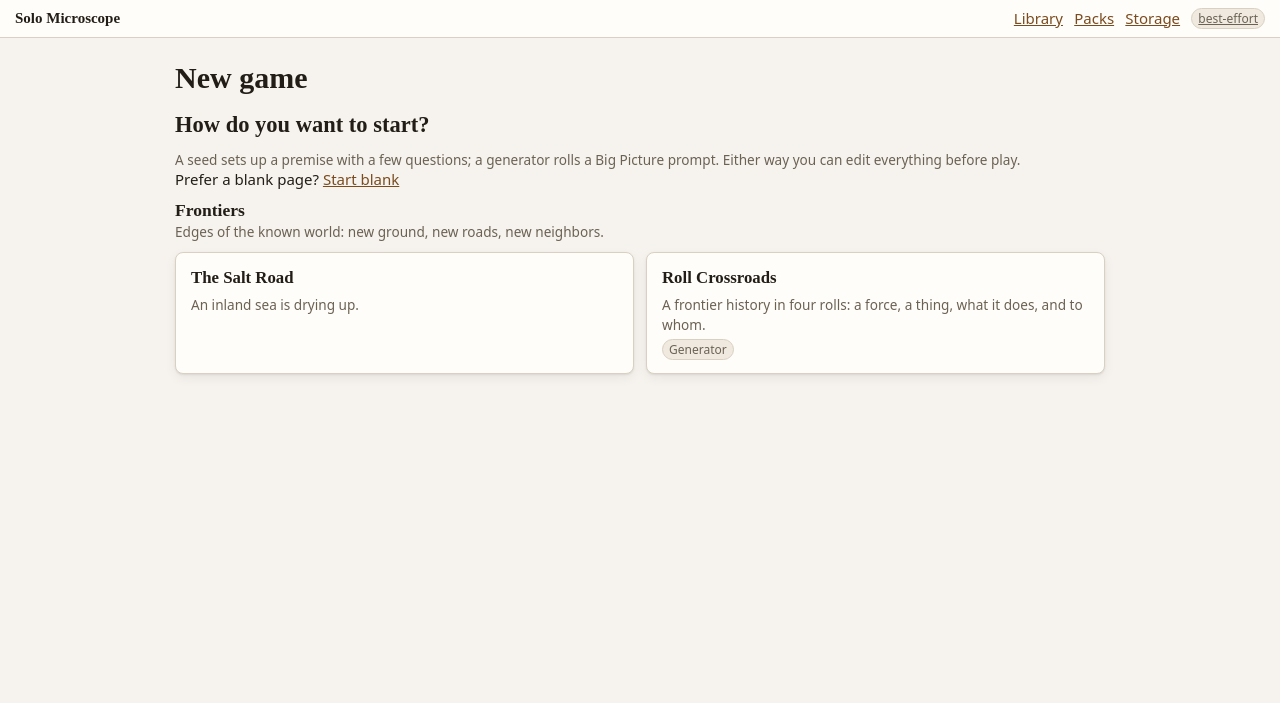
New game › group phantoms are the Reader, then the Gambler
The width and height of the screenshot is (1280, 703).
Click the button "Start blank" at coordinates (361, 180), box top-left (323, 169), bottom-right (399, 191)
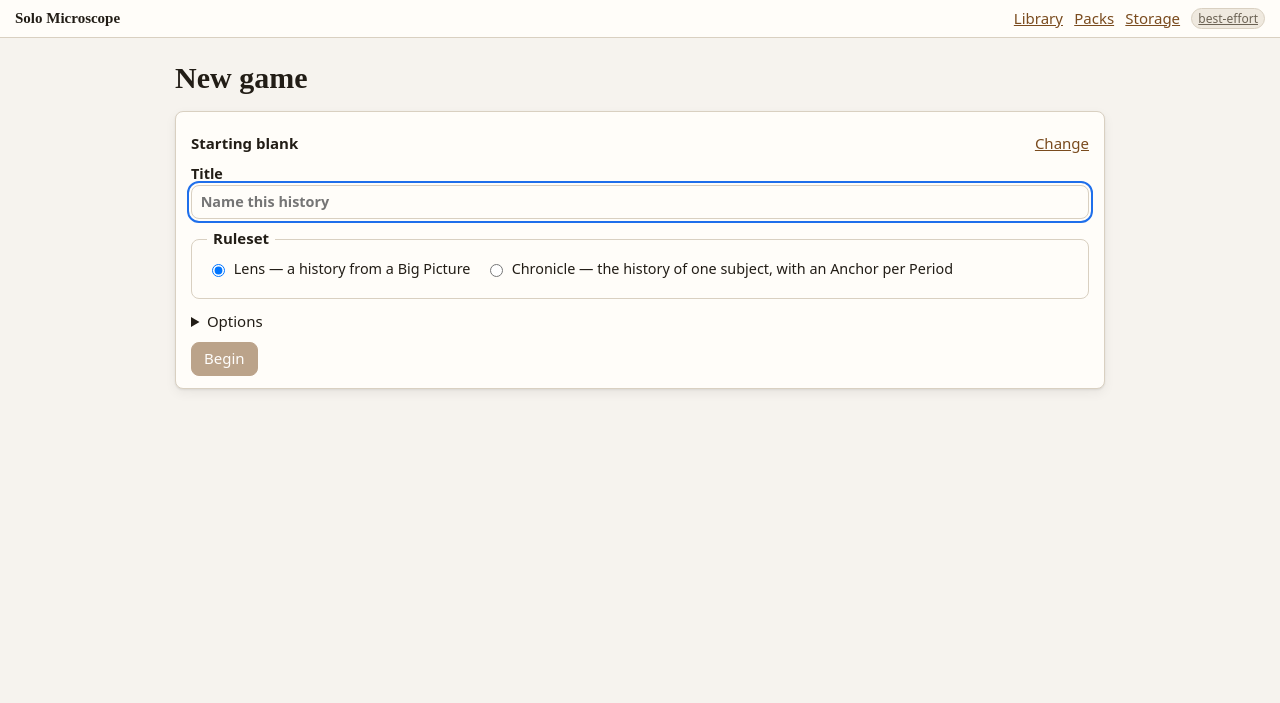
Type "T" into the field labelled "Title" at coordinates (640, 202), box top-left (191, 185), bottom-right (1089, 219)
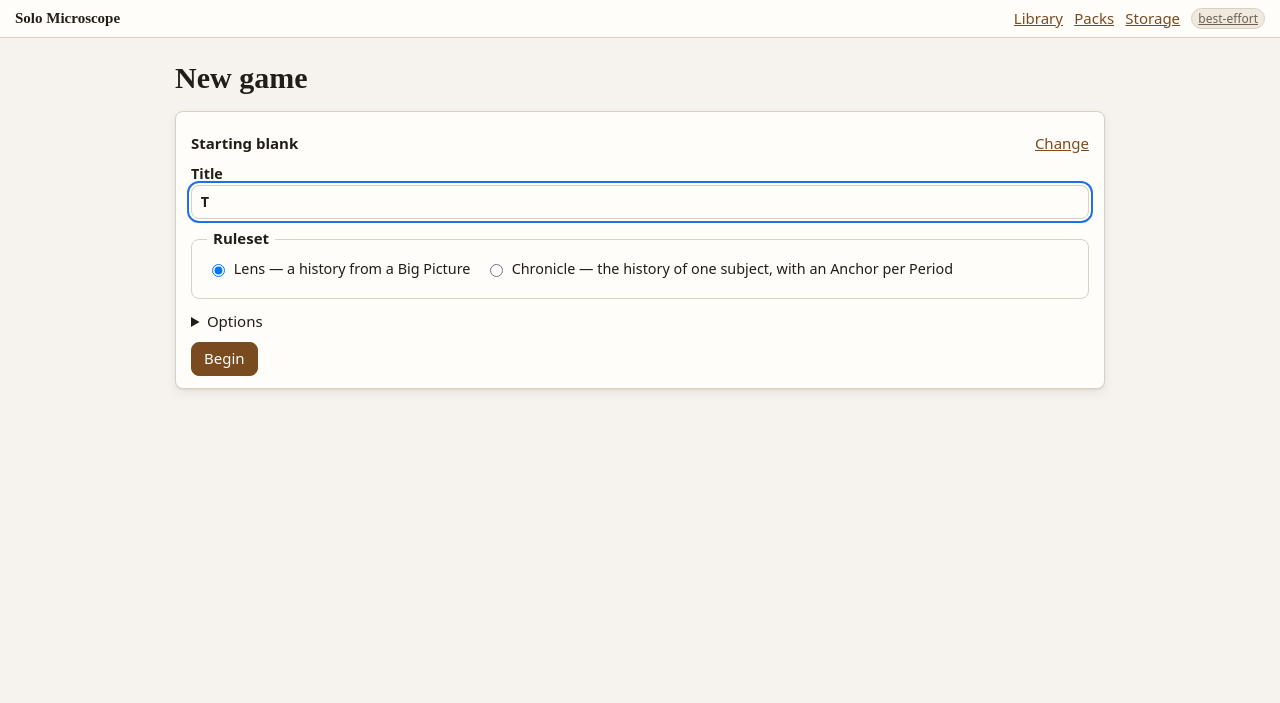
Click the heading "Options" at coordinates (235, 321), box top-left (207, 311), bottom-right (263, 331)
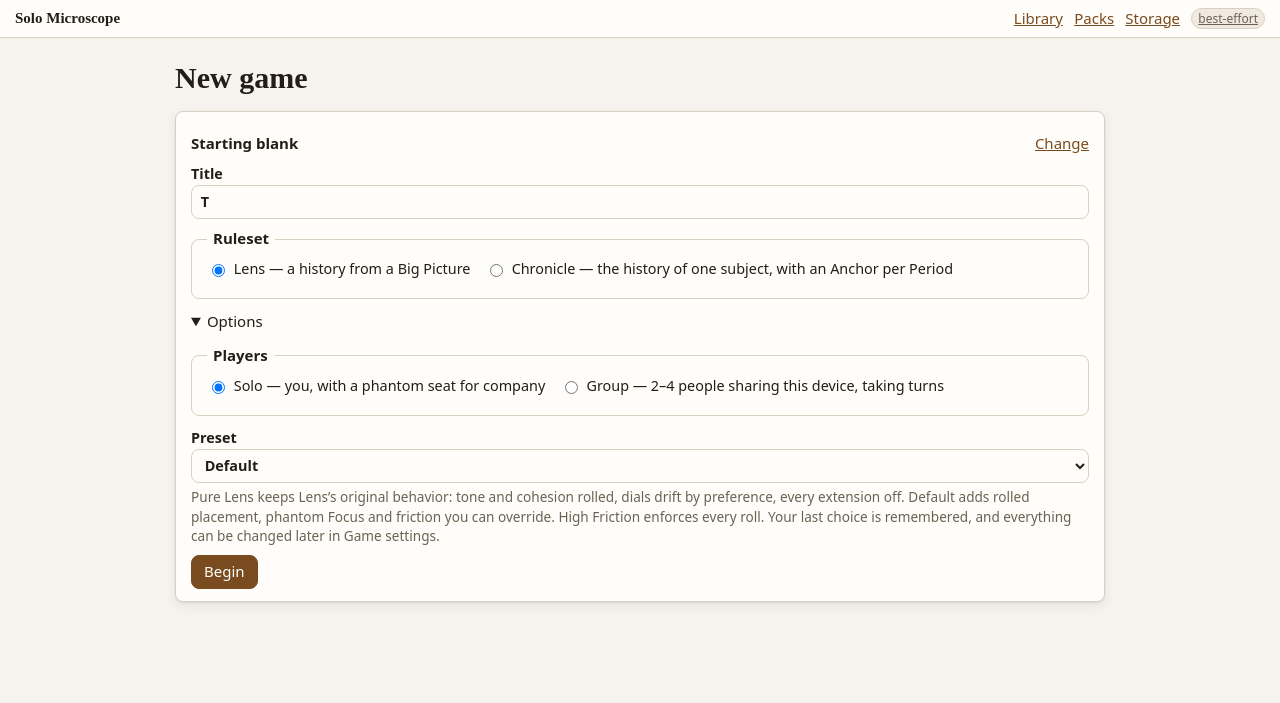
Click the radio button labelled "Group — 2–4 people sharing this device, taking turns" at coordinates (571, 388), box top-left (565, 381), bottom-right (578, 394)
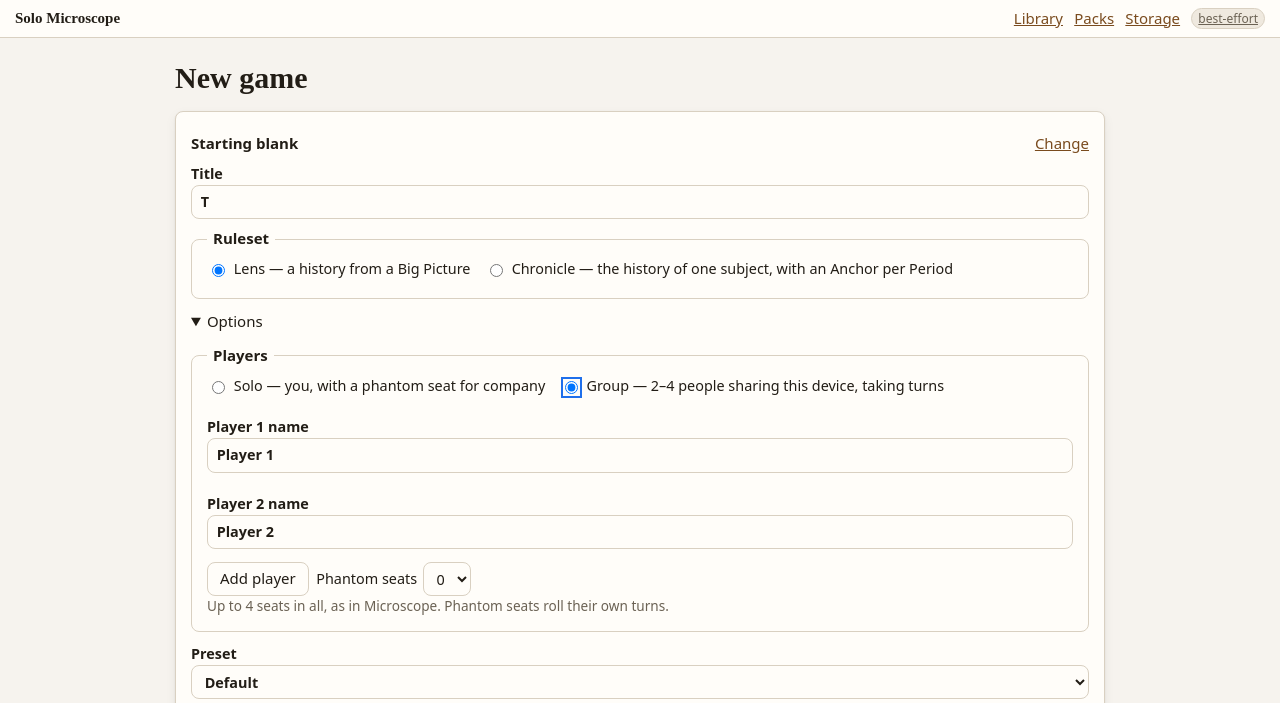
Select "2" in the dropdown labelled "Phantom seats" at coordinates (447, 579), box top-left (423, 562), bottom-right (471, 596)
(page scrolled)
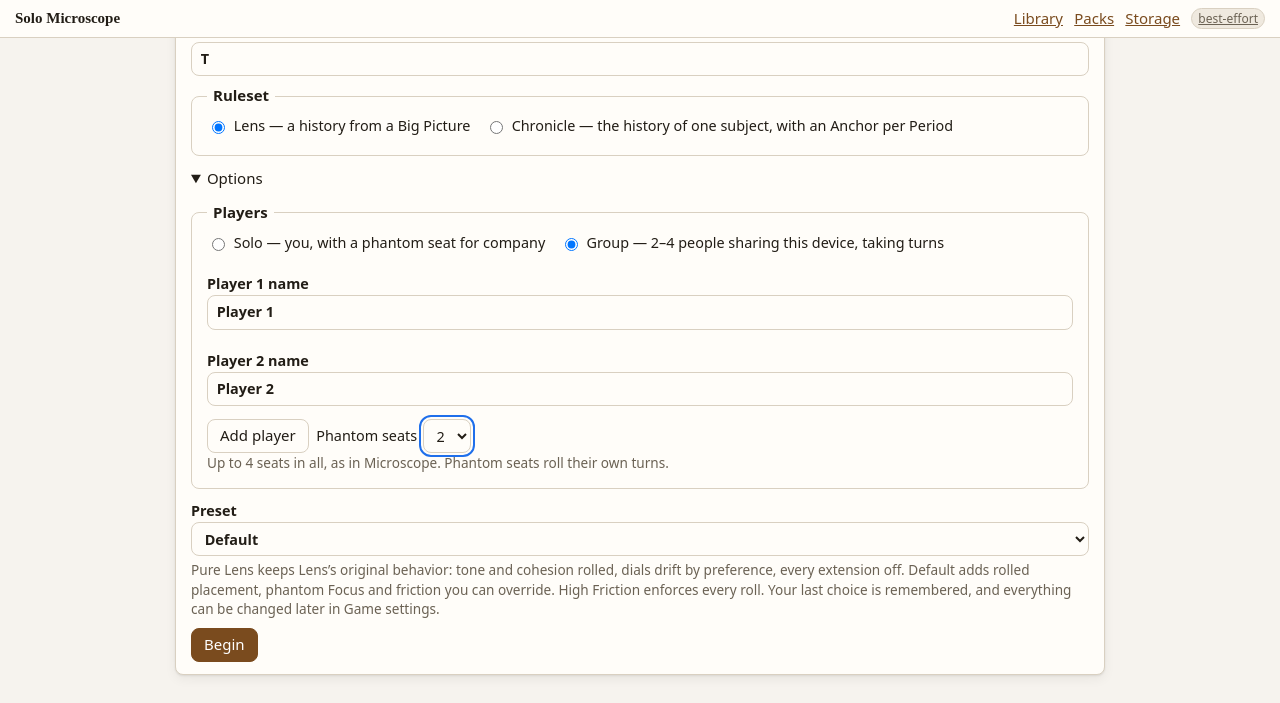
Click the button "Begin" at coordinates (224, 645), box top-left (191, 628), bottom-right (258, 662)
(page scrolled)
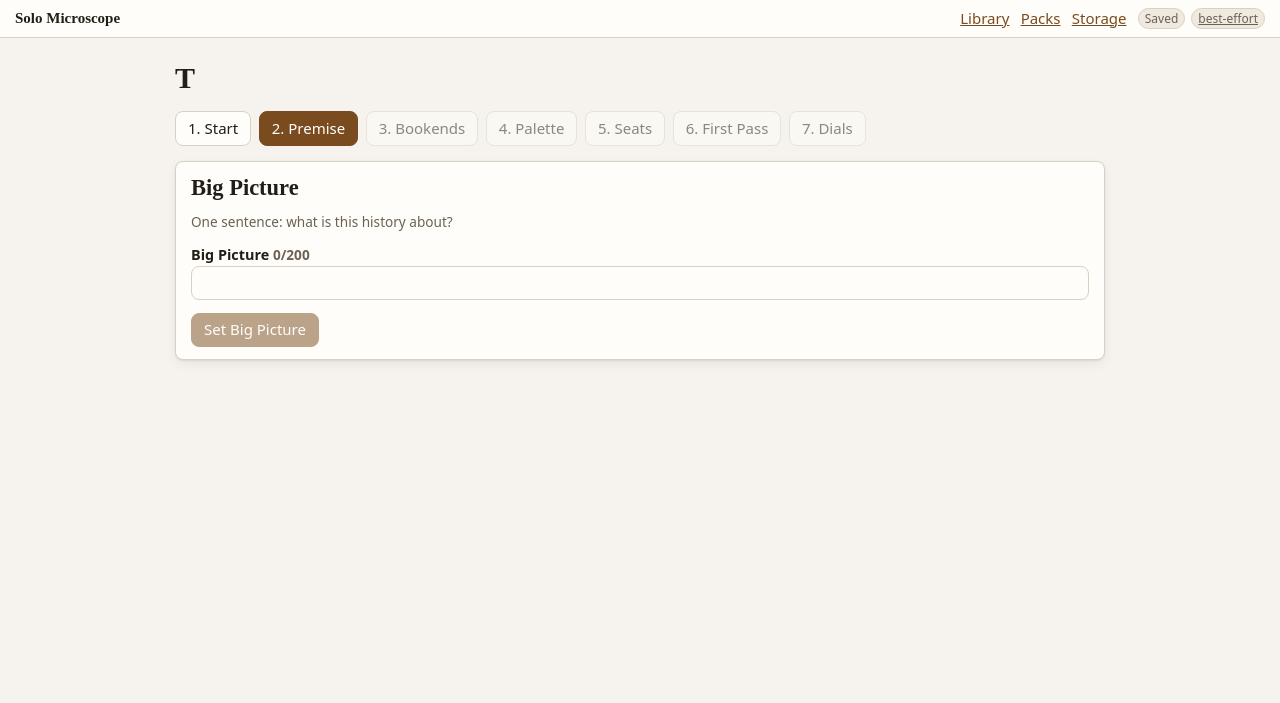
Check: the list named "Setup steps" is shown, box top-left (175, 111), bottom-right (866, 146)
